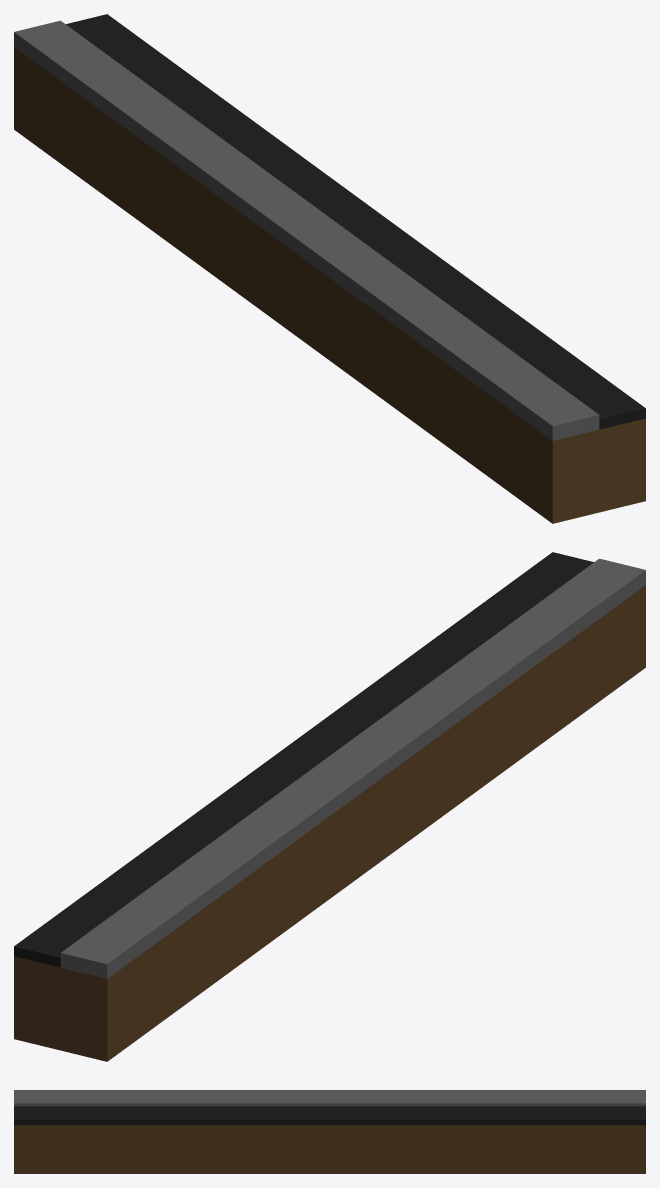
The model's file is Layout_D.fbx.
The picture shows the model from 3 angles, top to bottom: view 1: azimuth 30°, elevation 25°; view 2: azimuth 150°, elevation 25°; view 3: azimuth 270°, elevation 25°; orthographic projection. The views are drawn at different scales.
Visible parts, largest first — view 1: Cube.014; view 2: Cube.014; view 3: Cube.014.
Boxes of the visible parts, x1=… form: Cube.014: x1=14, y1=14, x2=645, y2=523; Cube.014: x1=14, y1=552, x2=645, y2=1061; Cube.014: x1=14, y1=1090, x2=645, y2=1173.
Bounding box in the file's own units: 200 × 200 × 2000.
